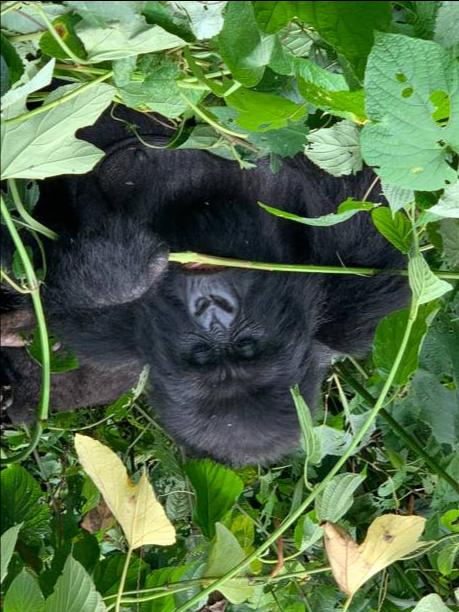goriile_montagne: (26, 85, 436, 477)
